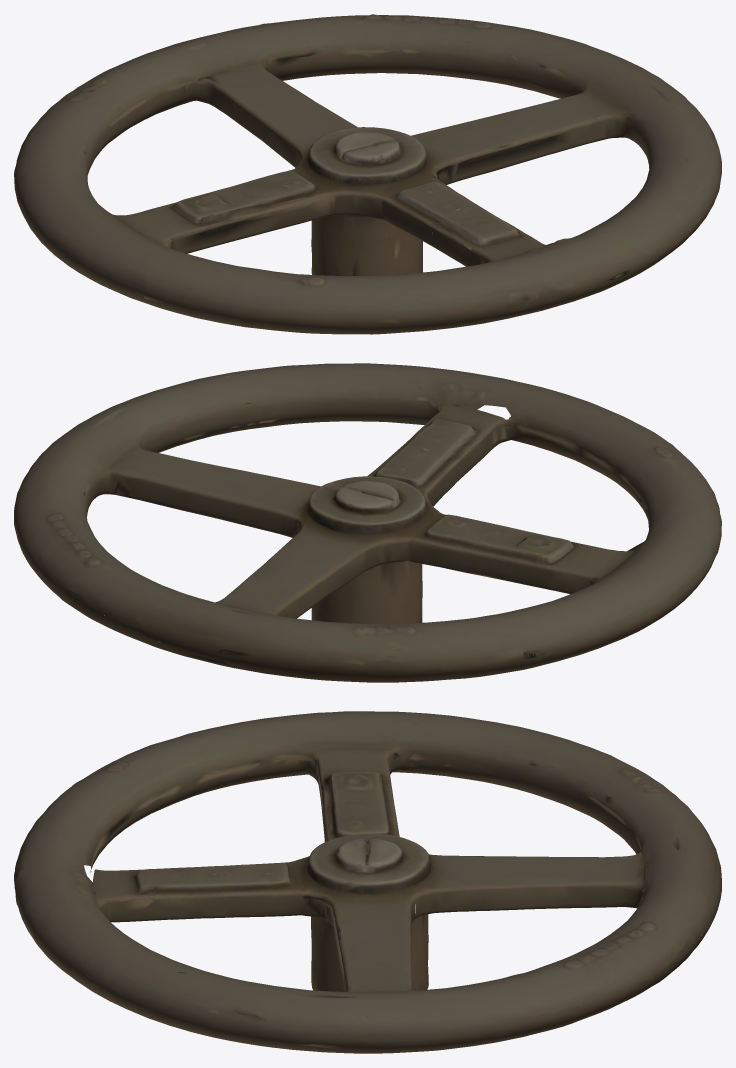
The model's file is wheelleft.glb.
The picture shows the model from 3 angles, top to bottom: view 1: azimuth 30°, elevation 25°; view 2: azimuth 150°, elevation 25°; view 3: azimuth 270°, elevation 25°; orthographic projection. The views are drawn at different scales.
Visible parts, largest first — view 1: tripo_node_d688b978-2437-49b7-ad79-9fda03560351.001; view 2: tripo_node_d688b978-2437-49b7-ad79-9fda03560351.001; view 3: tripo_node_d688b978-2437-49b7-ad79-9fda03560351.001.
Part boxes in pixels (box(x1,y1,x2,y2)): tripo_node_d688b978-2437-49b7-ad79-9fda03560351.001: box(14, 14, 721, 334); tripo_node_d688b978-2437-49b7-ad79-9fda03560351.001: box(14, 363, 721, 682); tripo_node_d688b978-2437-49b7-ad79-9fda03560351.001: box(14, 711, 721, 1053).
Size of the model in its own units: 1.18 by 0.2441 by 1.12.
Materials: 1 (1 with a texture image).
